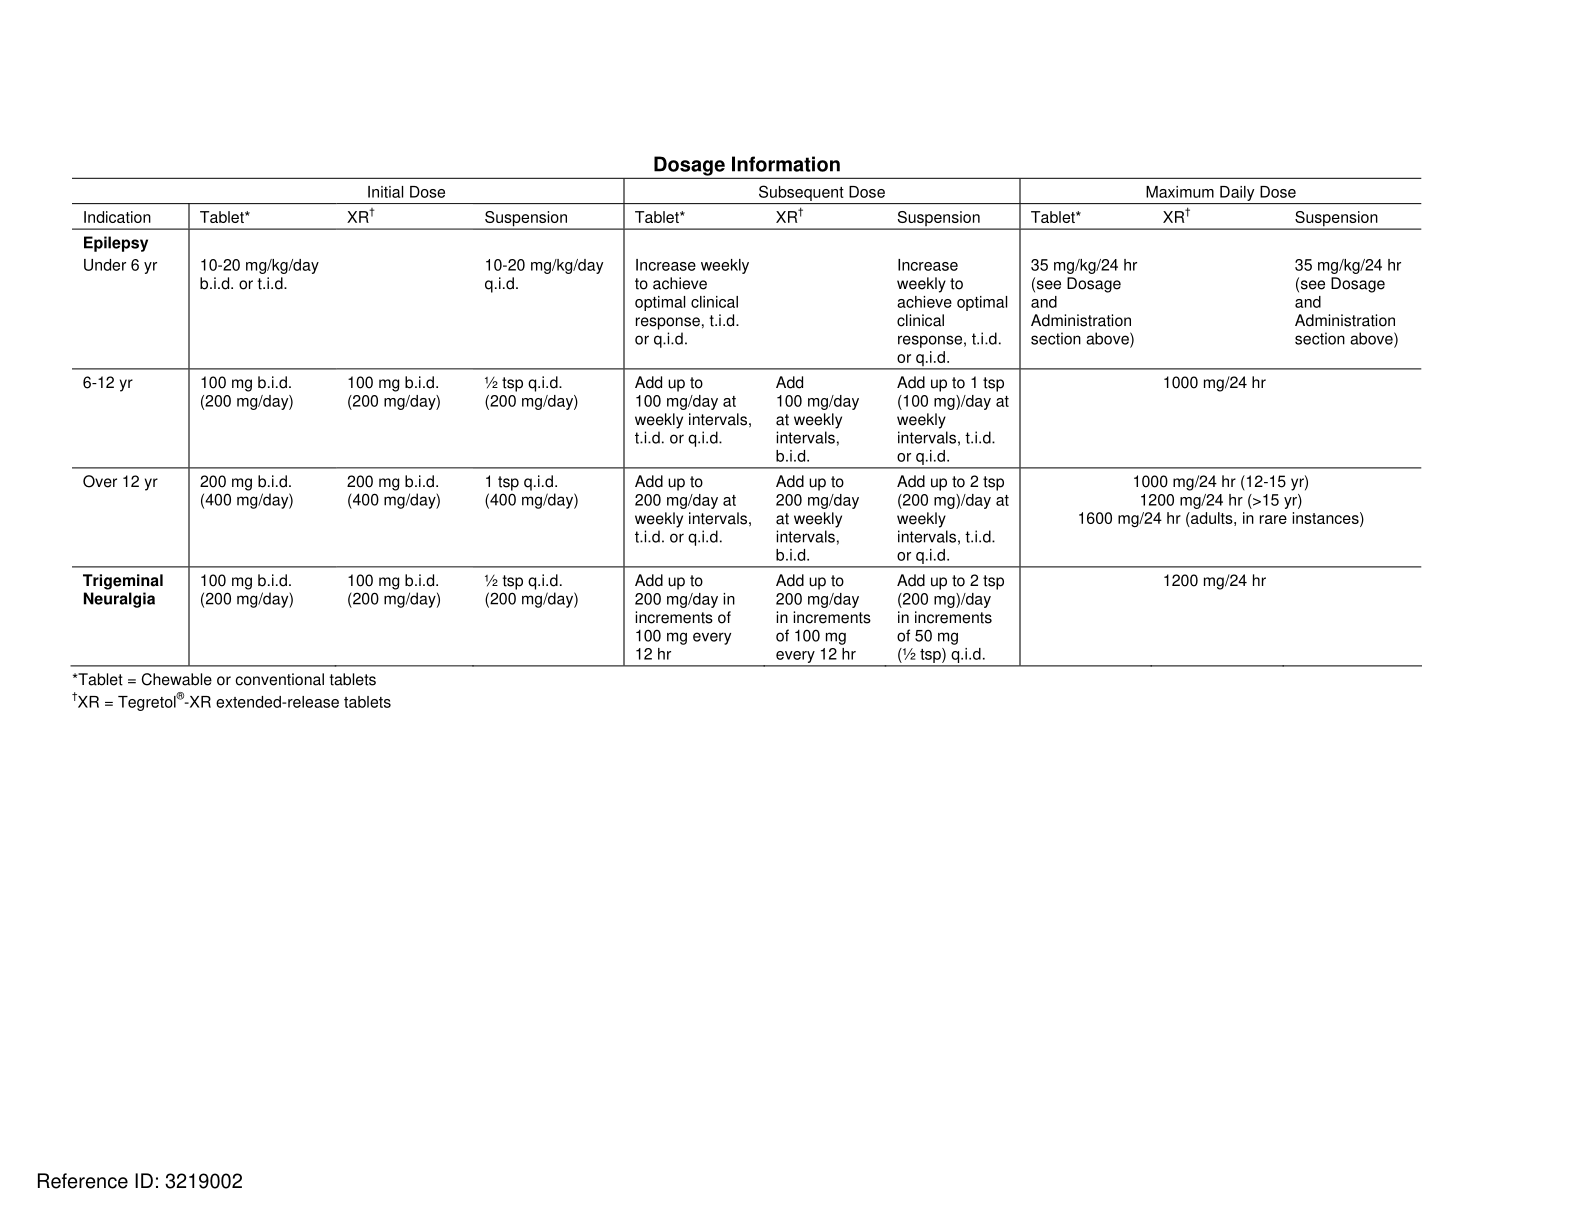partial_lined_merged_cells: (69, 177, 1425, 667)
